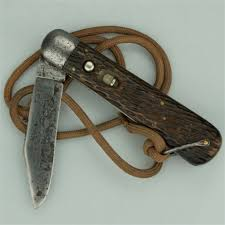knife: (16, 14, 225, 209)
